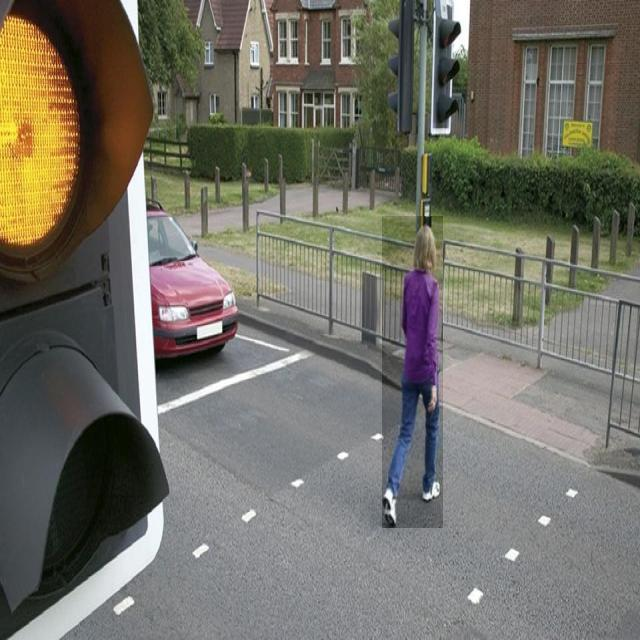without scooter: (382, 216, 443, 528)
